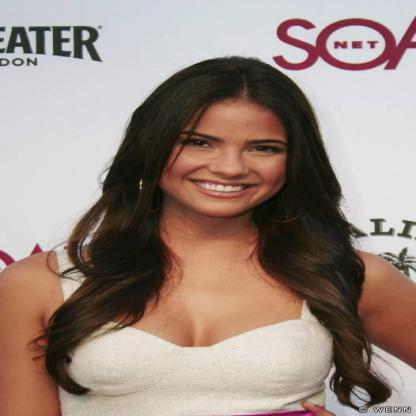long-hair: (39, 218, 370, 281)
